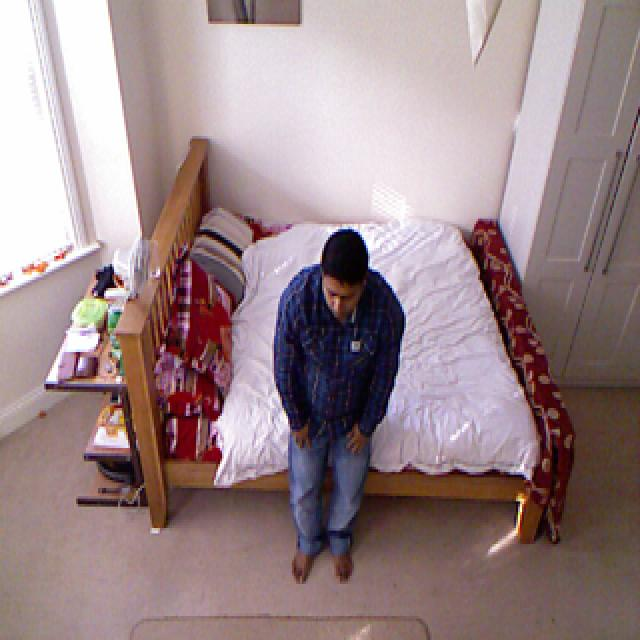standing: (270, 224, 406, 596)
